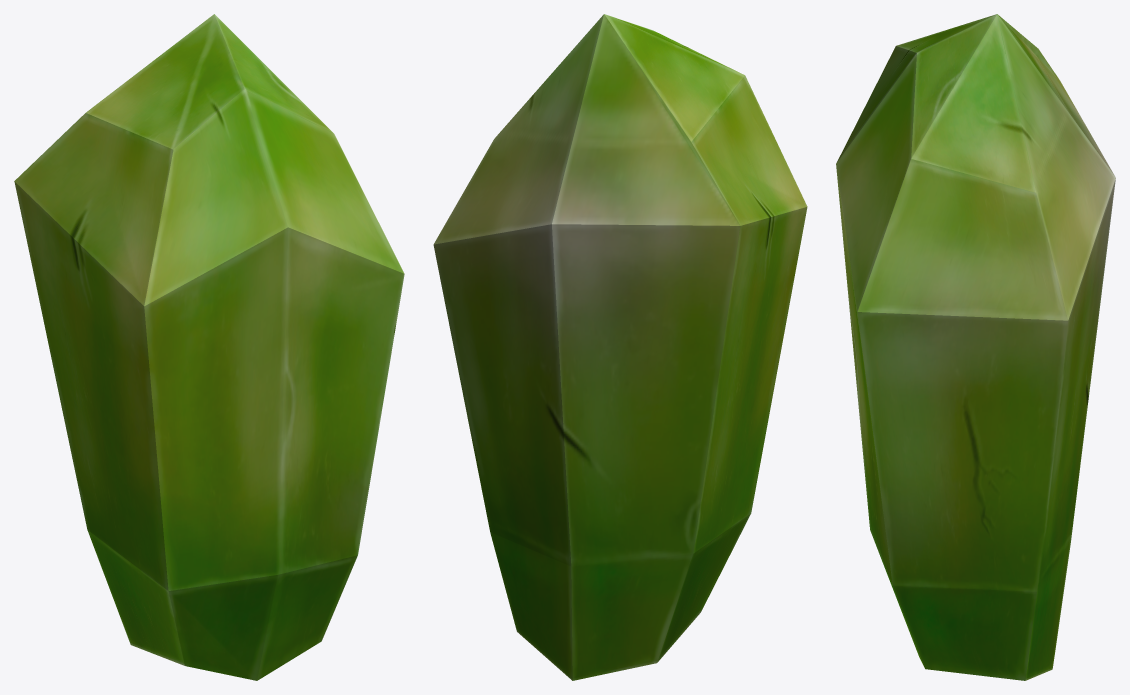
The model's file is shard_green.glb.
3 renders of one model, left to right at view 1: azimuth 30°, elevation 25°; view 2: azimuth 150°, elevation 25°; view 3: azimuth 270°, elevation 25°, orthographic.
Visible parts, largest first — view 1: Cube; view 2: Cube; view 3: Cube.
Part boxes in pixels (x1,y1,x2,y2): Cube: (14, 14, 404, 680); Cube: (433, 14, 807, 680); Cube: (836, 14, 1115, 680).
Size of the model in its own units: 76.26 by 156 by 60.49.
Materials: 1 (1 with a texture image).
